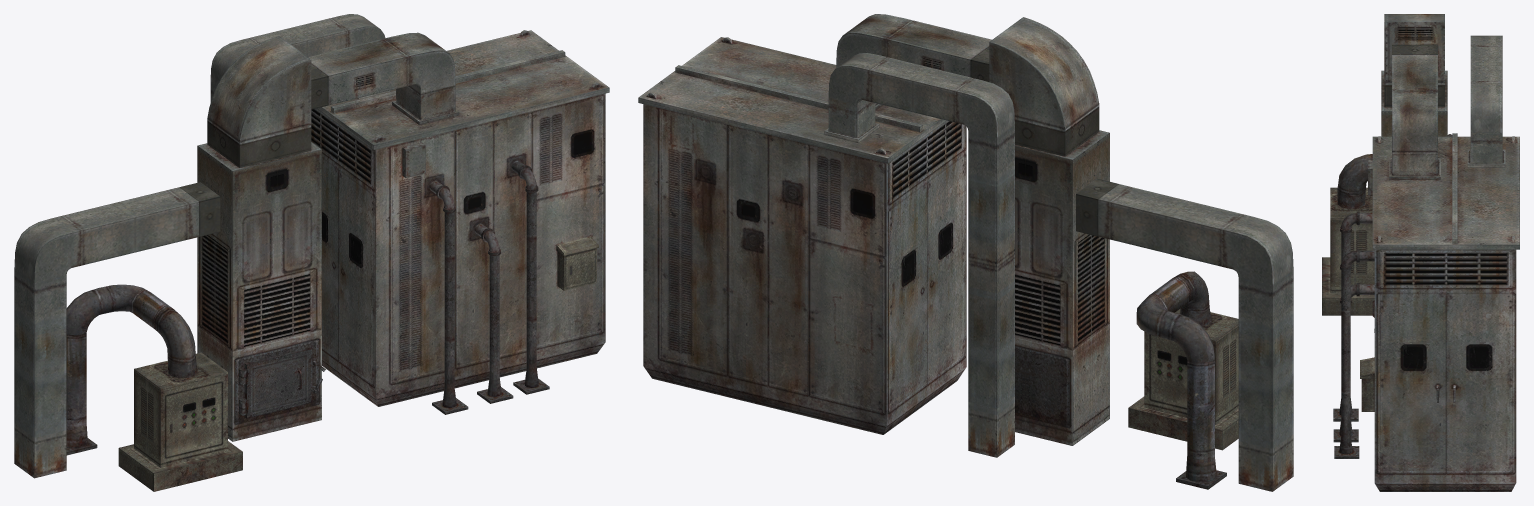
The model's file is sm22_002_boiler01a.fbx.
3 renders of one model, left to right at view 1: azimuth 30°, elevation 25°; view 2: azimuth 150°, elevation 25°; view 3: azimuth 270°, elevation 25°, orthographic. The views are drawn at different scales.
Parts seen in each view (by area): view 1: LOD_1_Group_0_Sub_1__sm22_002_Boiler01A_A_Mat; view 2: LOD_1_Group_0_Sub_1__sm22_002_Boiler01A_A_Mat; view 3: LOD_1_Group_0_Sub_1__sm22_002_Boiler01A_A_Mat.
Part boxes in pixels (bbox=[...]): LOD_1_Group_0_Sub_1__sm22_002_Boiler01A_A_Mat: bbox=[14, 14, 609, 491]; LOD_1_Group_0_Sub_1__sm22_002_Boiler01A_A_Mat: bbox=[638, 14, 1293, 491]; LOD_1_Group_0_Sub_1__sm22_002_Boiler01A_A_Mat: bbox=[1322, 14, 1519, 491].
Bounding box in the file's own units: 5.61 × 3.45 × 1.82.
